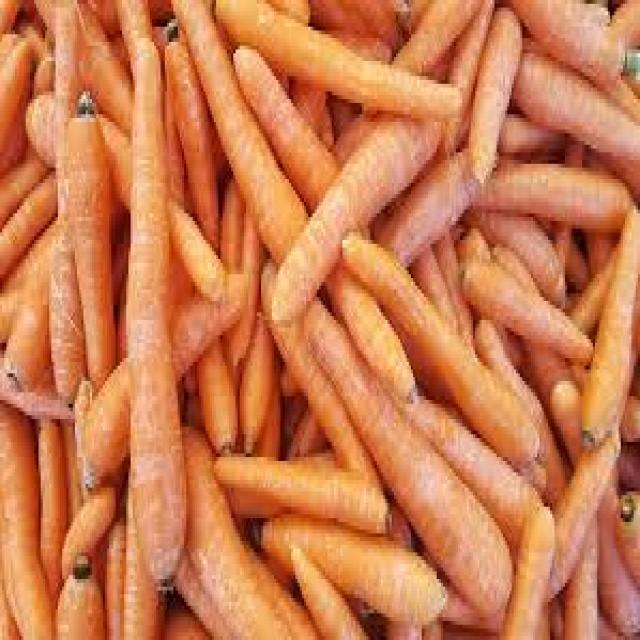Stale_Carrot: (67, 116, 116, 387), (0, 356, 74, 420)
